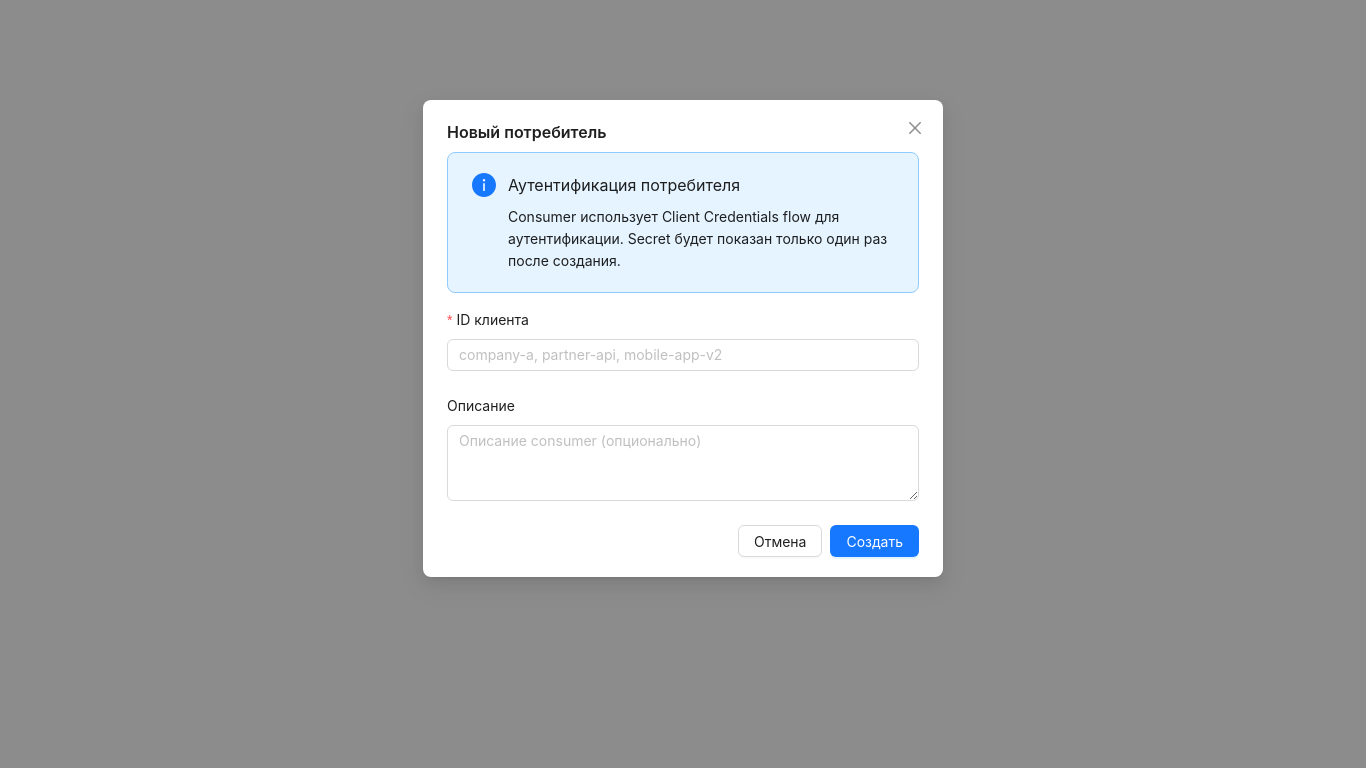
Test: CreateConsumerModal › валидирует Client ID — required (AC2)
// Кликаем Create без заполнения Client ID
Click the button "Создать": (875, 541) x1=830 y1=525 x2=919 y2=557
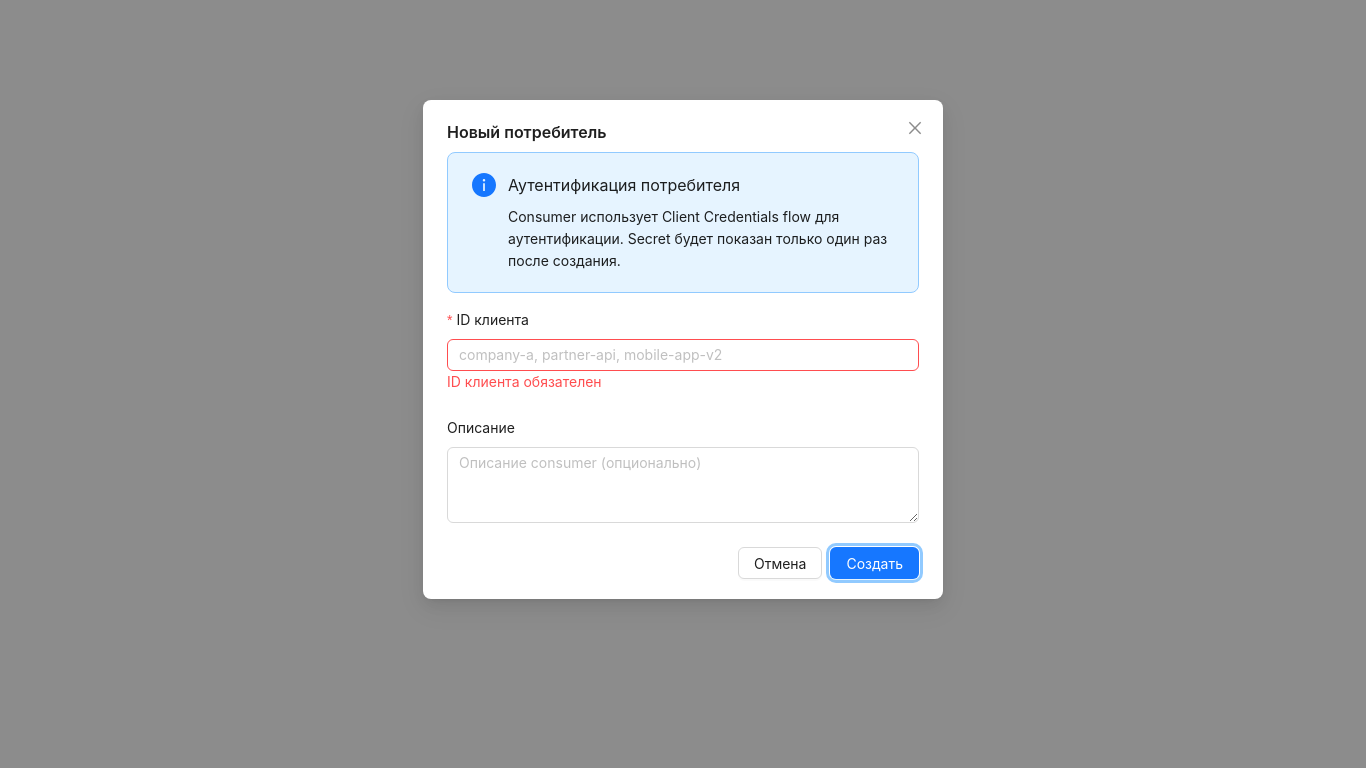
Expected: the text "ID клиента обязателен" is shown, x1=447 y1=373 x2=602 y2=390
